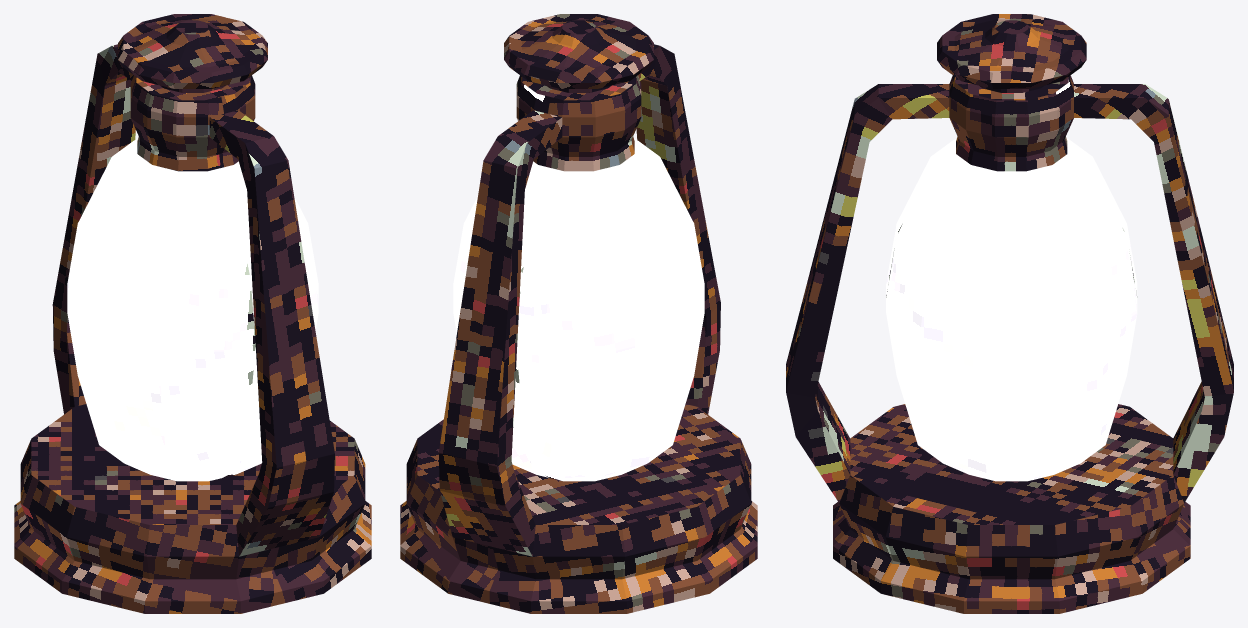
File: lamp.gltf
3 views of the same model, side by side, from view 1: azimuth 30°, elevation 25°; view 2: azimuth 150°, elevation 25°; view 3: azimuth 270°, elevation 25° (orthographic).
Parts seen in each view (by area): view 1: lamp; view 2: lamp; view 3: lamp.
Boxes of the visible parts, x1,y1,x2,y2 form: lamp: [14, 14, 371, 613]; lamp: [400, 14, 757, 613]; lamp: [786, 14, 1233, 613].
Bounding box in the file's own units: 0.2464 × 0.3887 × 0.3087.
1 material, 1 textured.
